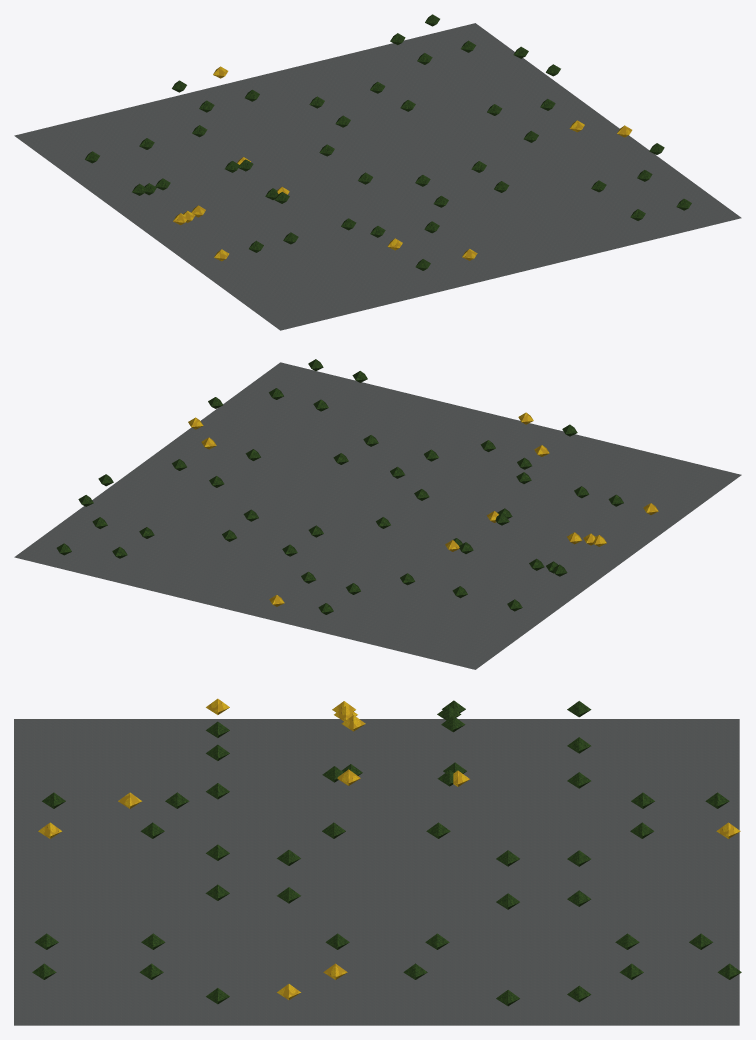
The model's file is cidade_S04_04_lod.gltf.
3 views of the same model, one above another, from view 1: azimuth 30°, elevation 25°; view 2: azimuth 150°, elevation 25°; view 3: azimuth 270°, elevation 25° (orthographic). The views are drawn at different scales.
Visible parts, largest first — view 1: S04_04_Chao_LOD2, S04_04_Vegetacao_LOD2; view 2: S04_04_Chao_LOD2, S04_04_Vegetacao_LOD2; view 3: S04_04_Chao_LOD2, S04_04_Vegetacao_LOD2.
Part boxes in pixels (<box>): S04_04_Chao_LOD2: <box>14,23,741,330</box>; S04_04_Vegetacao_LOD2: <box>85,14,691,270</box>; S04_04_Chao_LOD2: <box>14,362,741,669</box>; S04_04_Vegetacao_LOD2: <box>56,359,658,614</box>; S04_04_Chao_LOD2: <box>14,719,739,1025</box>; S04_04_Vegetacao_LOD2: <box>32,698,741,1006</box>.
Size of the model in its own units: 100 by 4.91 by 100.
3 materials, 3 textured.
